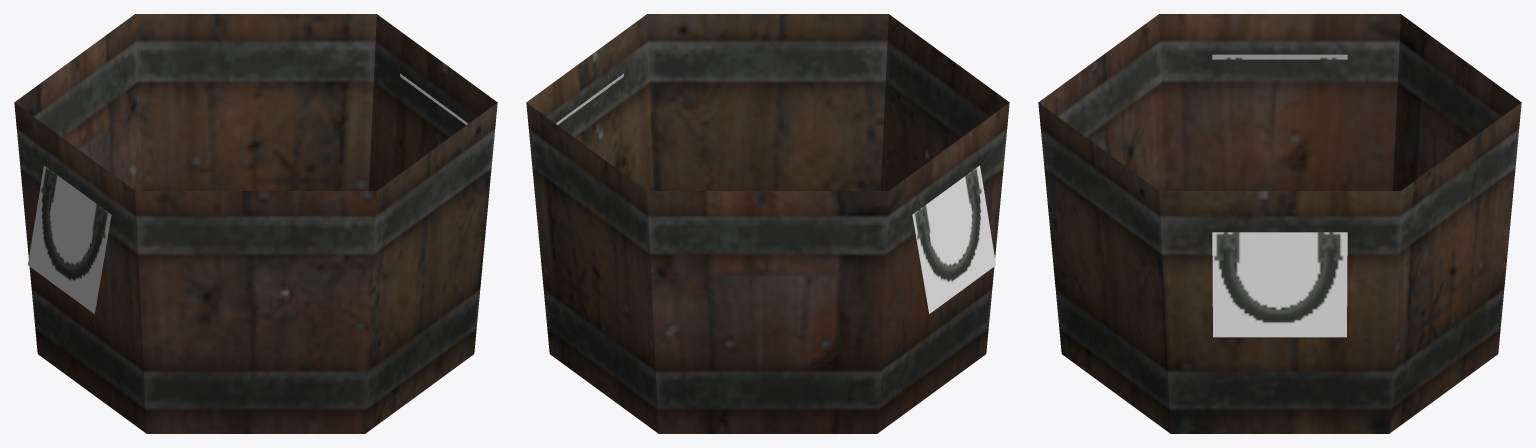
Rendered from Bucket_2.fbx.
3 renders of one model, left to right at view 1: azimuth 30°, elevation 25°; view 2: azimuth 150°, elevation 25°; view 3: azimuth 270°, elevation 25°, orthographic.
Parts seen in each view (by area): view 1: Bucket_2; view 2: Bucket_2; view 3: Bucket_2.
Boxes of the visible parts, <box> form: Bucket_2: <box>14,14,497,433</box>; Bucket_2: <box>526,14,1009,433</box>; Bucket_2: <box>1038,14,1521,433</box>.
Size of the model in its own units: 38.25 by 23.6 by 41.09.
